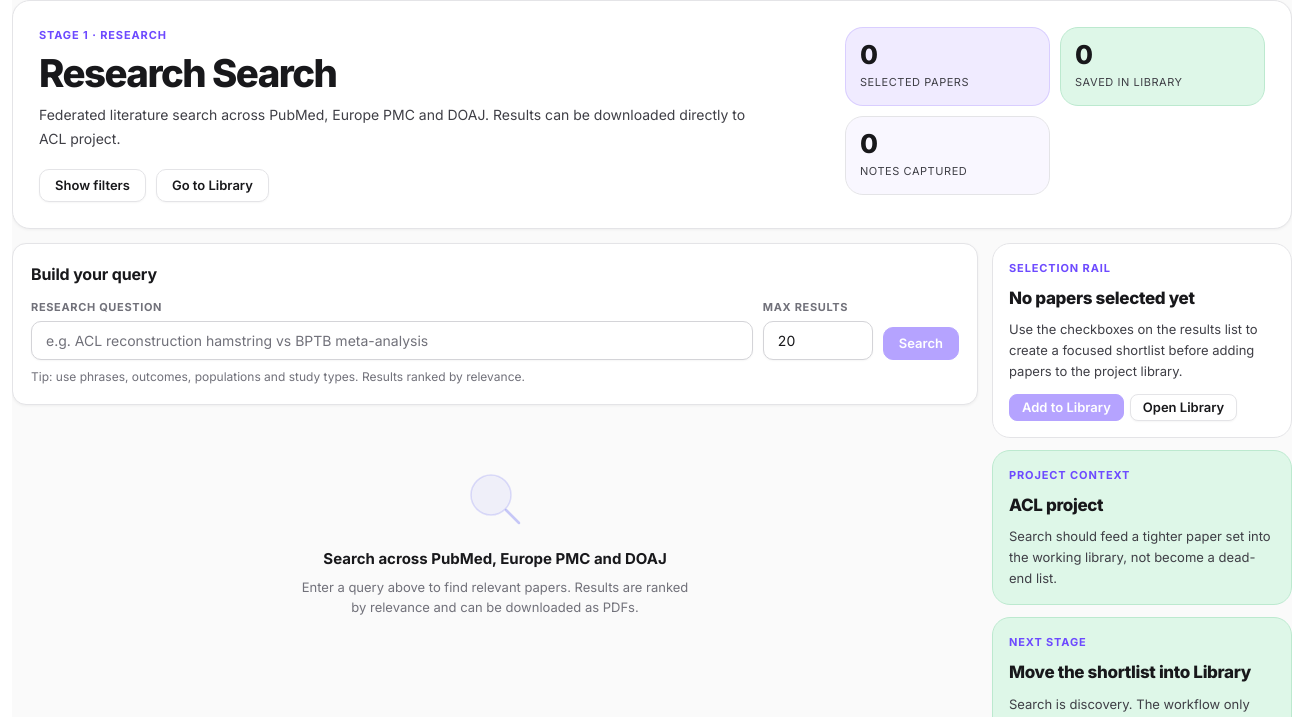
Scenario: SearchPage — API call › shows result count
Type "ACL hamstring" into the field with placeholder "e.g. ACL reconstruction hamstring vs BPTB meta-analysis" at (392, 340), box [31,321,753,360]
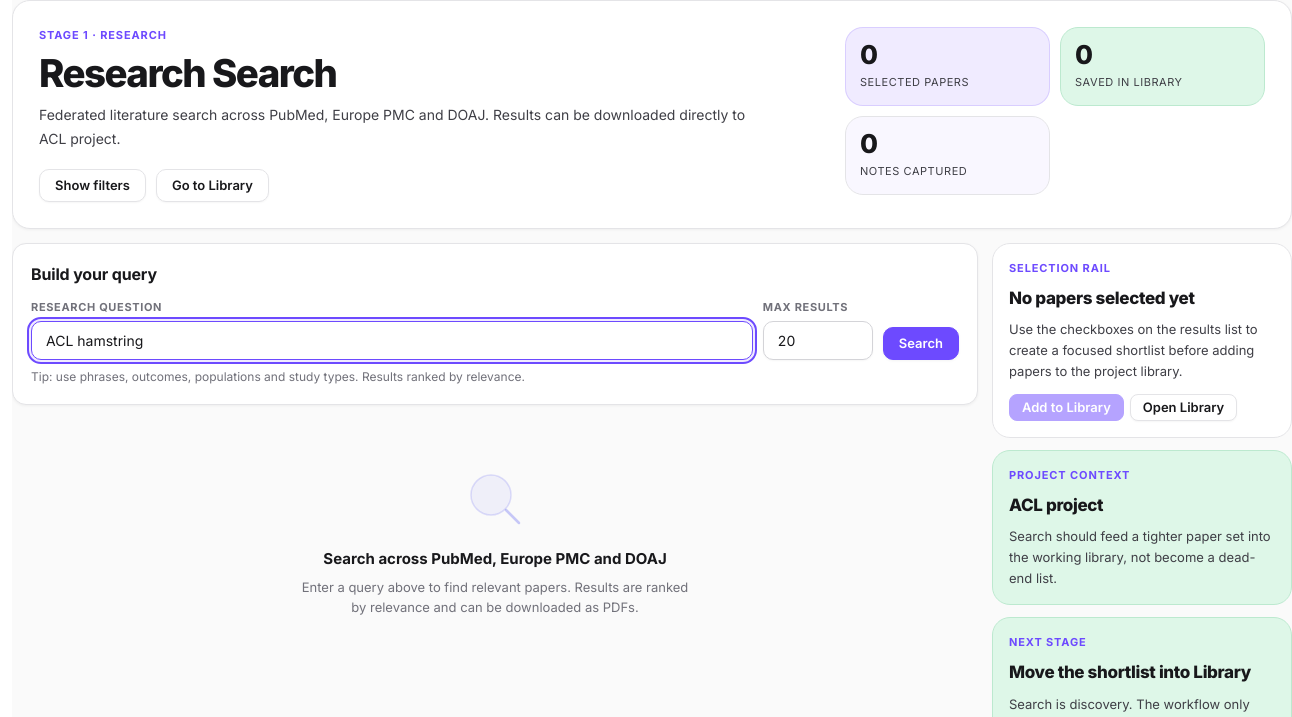
Click the button "Search" at (921, 343), box [883,327,959,360]
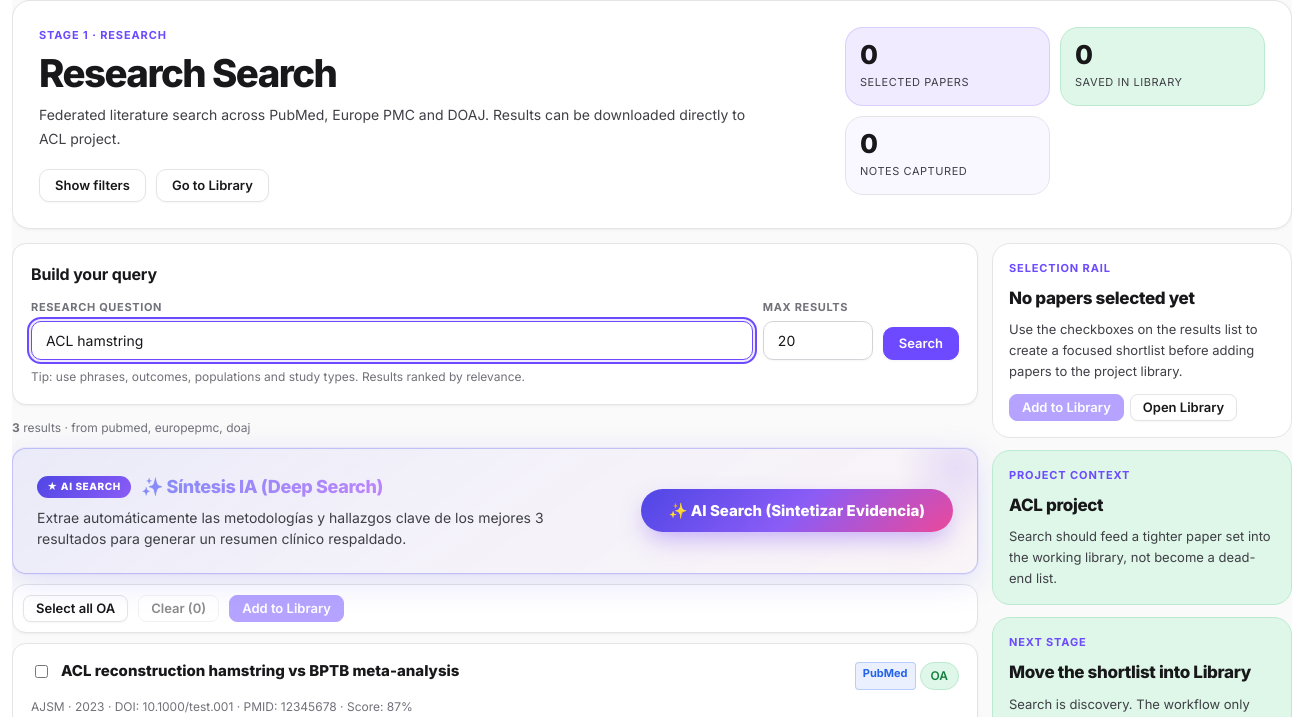
Expected: the text "ACL reconstruction hamstring vs BPTB meta-analysis" is shown, [61,661,459,680]
